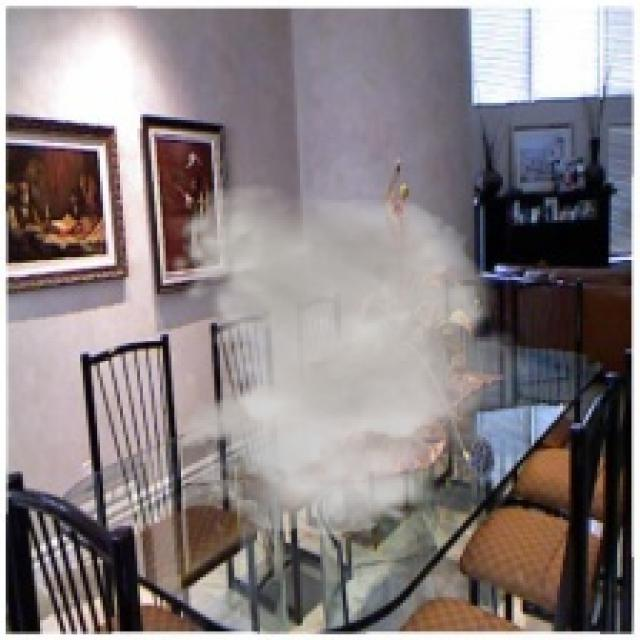smoke: (166, 183, 543, 537)
